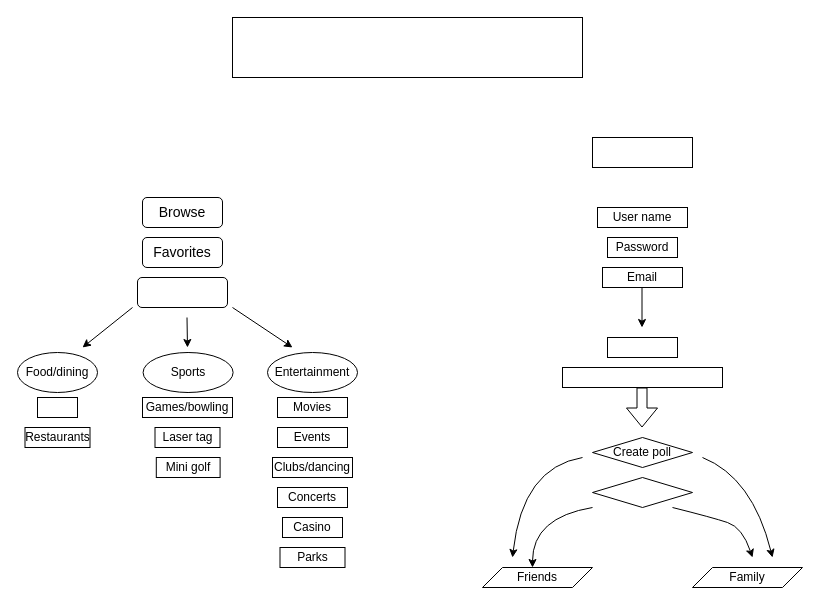
Image size: 820x605. Some labels were removed from this diagram. The shapes that lost their labels are listed below. From the top down, each one's centre as x and y in pixels, then its label:
(x=407, y=47): "Pole your meet up places with your friends or family"
(x=642, y=152): Account
(x=182, y=292): New Locations
(x=642, y=347): User model
(x=642, y=377): Log in to connect to the polls
(x=57, y=407): Bars
(x=642, y=492): Poll history
